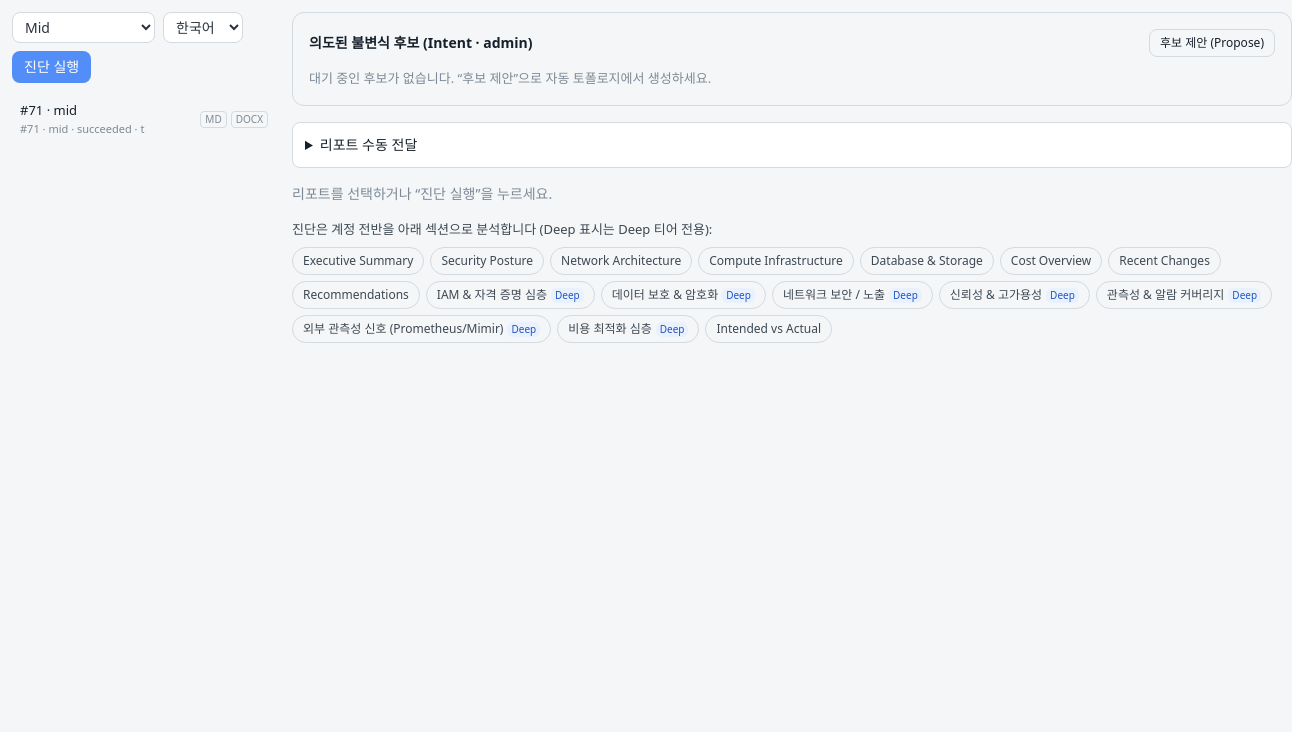
Test: DiagnosisView — invariant assessment coverage › shows assessed, failed and unassessed counts separately for mixed evidence
Click the button "#71 · mid #71 · mid · succeeded · t" at [104, 119], box [12,95,196,143]
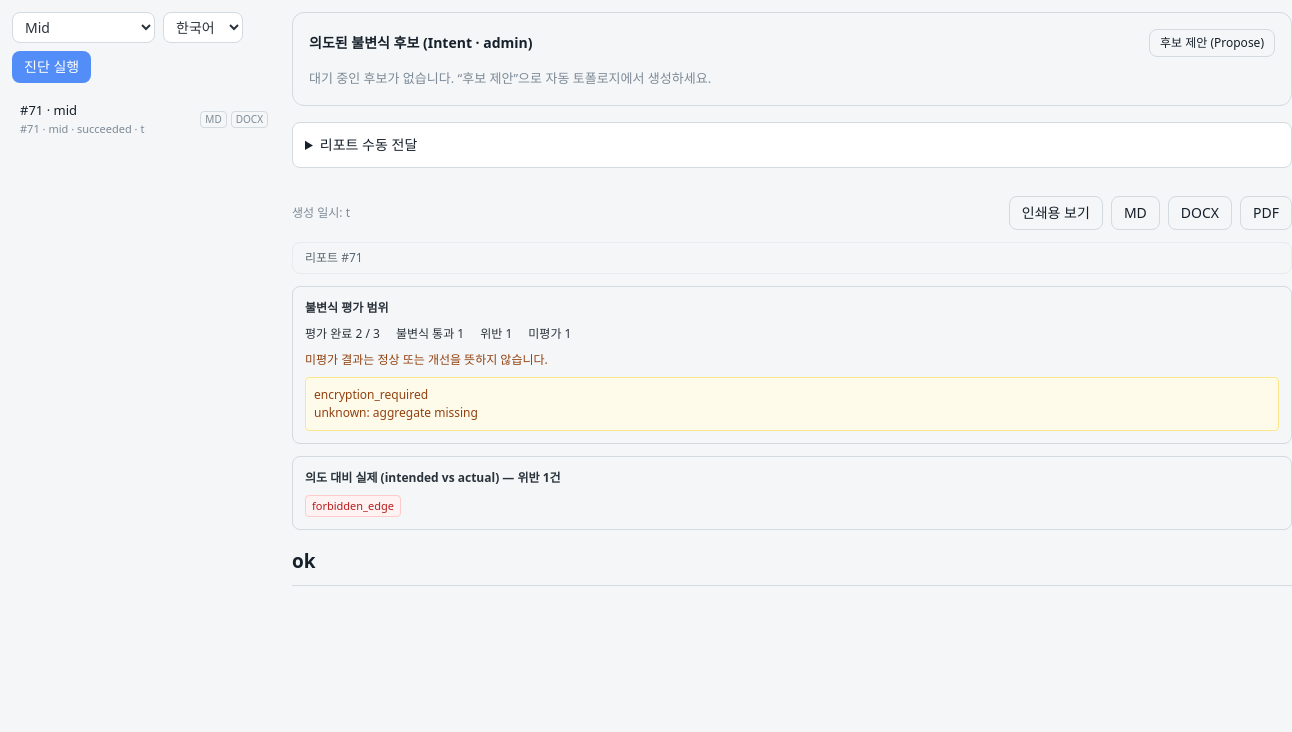
Check: the text "평가 완료 2 / 3" is shown, box [305,324,380,342]
Check: the text "불변식 통과 1" is shown, box [396,324,464,342]
Check: the text "위반 1" is shown, box [480,324,512,342]
